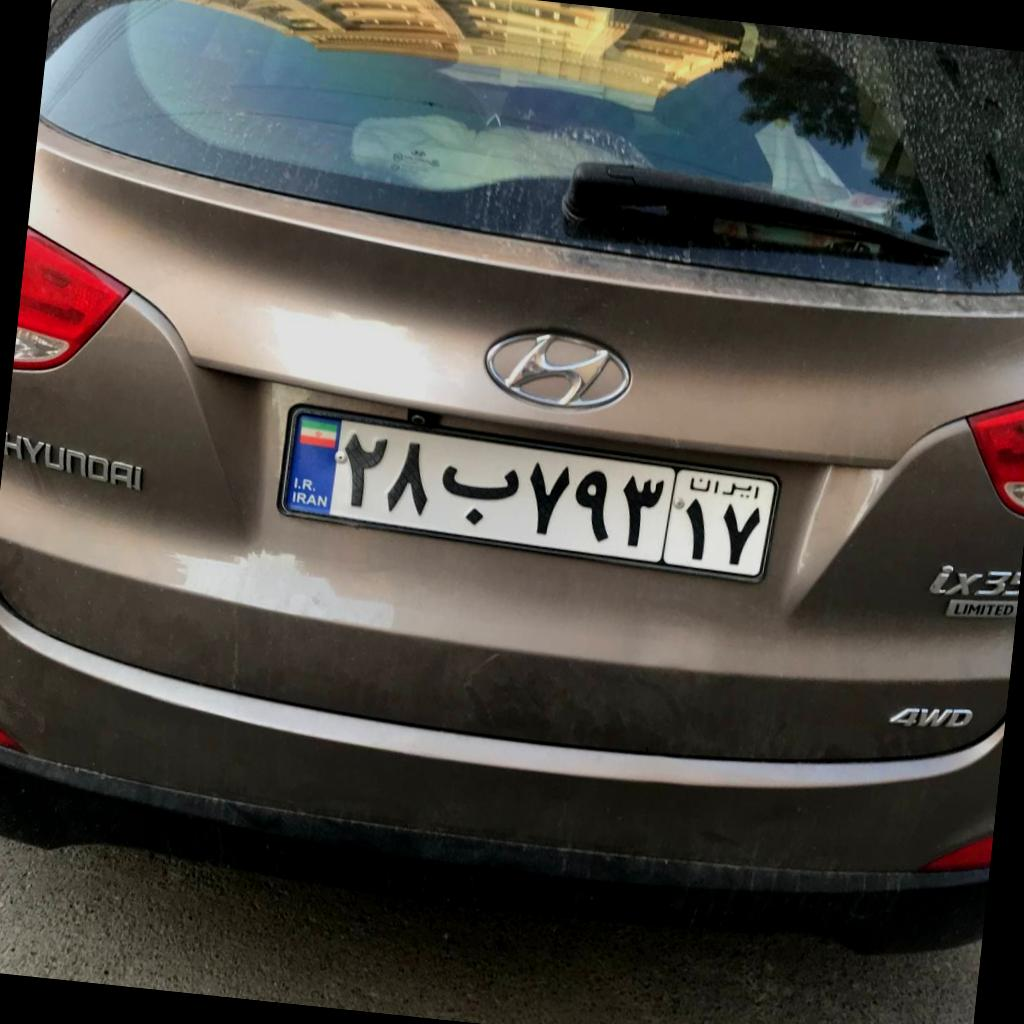Plates: (284, 411, 777, 577)
